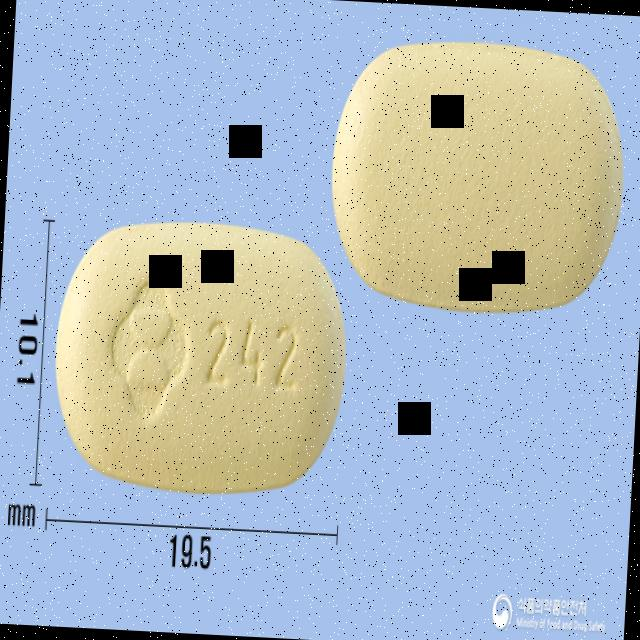Isentress: (48, 214, 354, 502)
